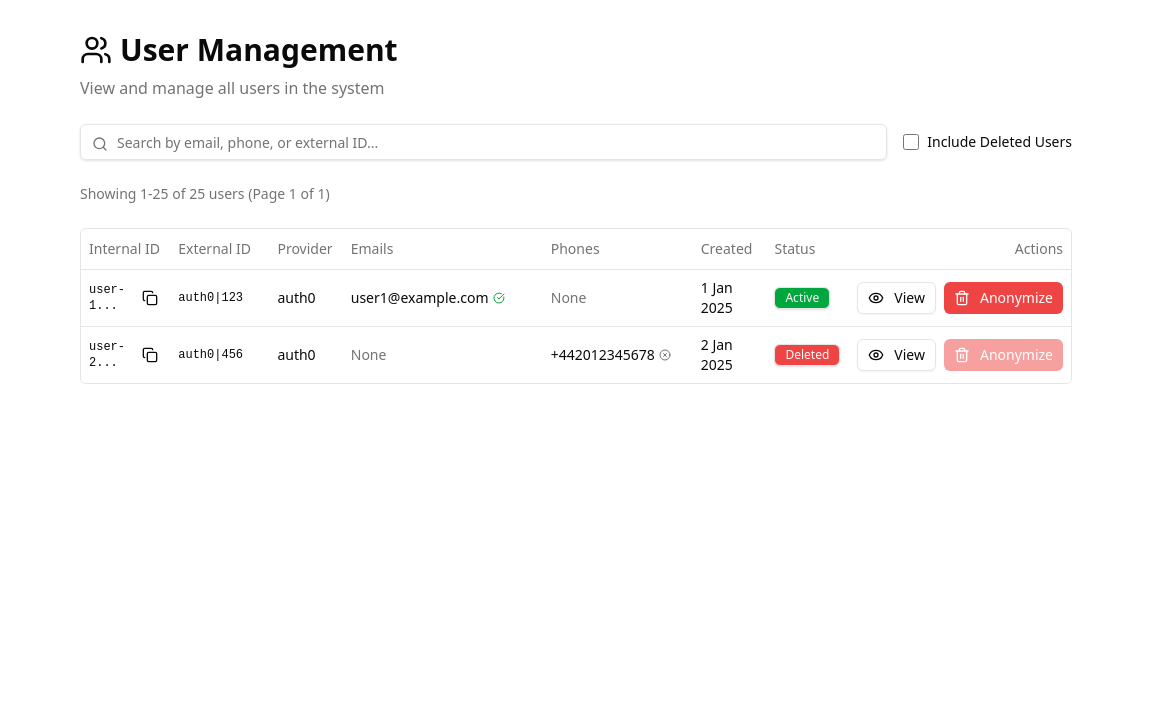
Test: AdminUsers › anonymize dialog › should open anonymize dialog when anonymize button clicked
The width and height of the screenshot is (1152, 720).
Click the button "Anonymize" in the row of "user-1...".
click(1004, 298)  # box x1=944 y1=282 x2=1063 y2=314
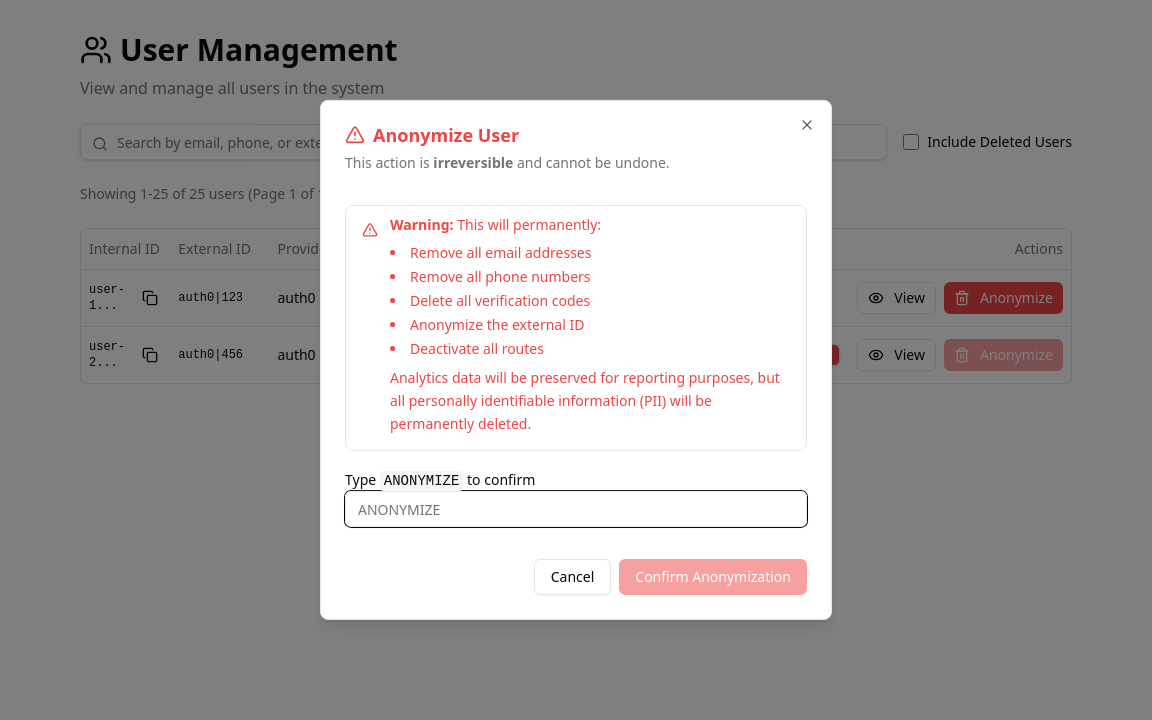
Expected: the heading "Anonymize User" is shown, x1=345 y1=123 x2=519 y2=147
